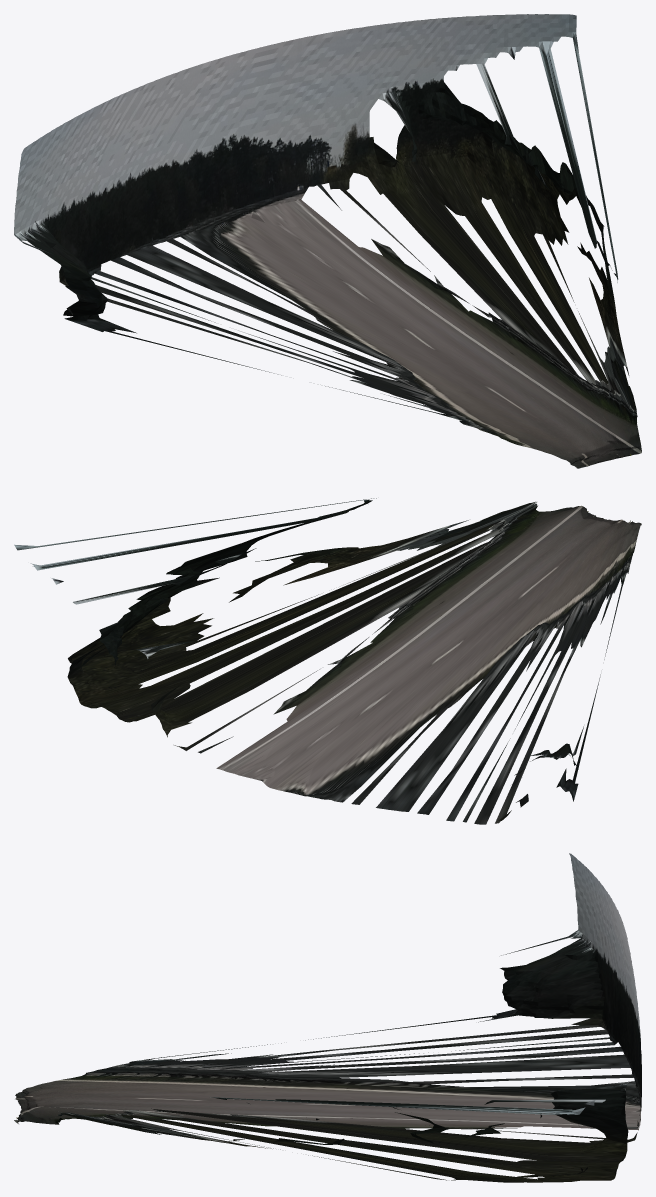
3 renders of one model, top to bottom at view 1: azimuth 30°, elevation 25°; view 2: azimuth 150°, elevation 25°; view 3: azimuth 270°, elevation 25°, orthographic. The views are drawn at different scales.
Visible parts, largest first — view 1: defaultobject; view 2: defaultobject; view 3: defaultobject.
Part boxes in pixels (box(x1,y1,x2,y2)): defaultobject: box(14, 14, 641, 468); defaultobject: box(14, 498, 641, 824); defaultobject: box(14, 853, 641, 1182).
Size of the model in its own units: 40.91 by 12.43 by 44.61.
Materials: 1 (1 with a texture image).
